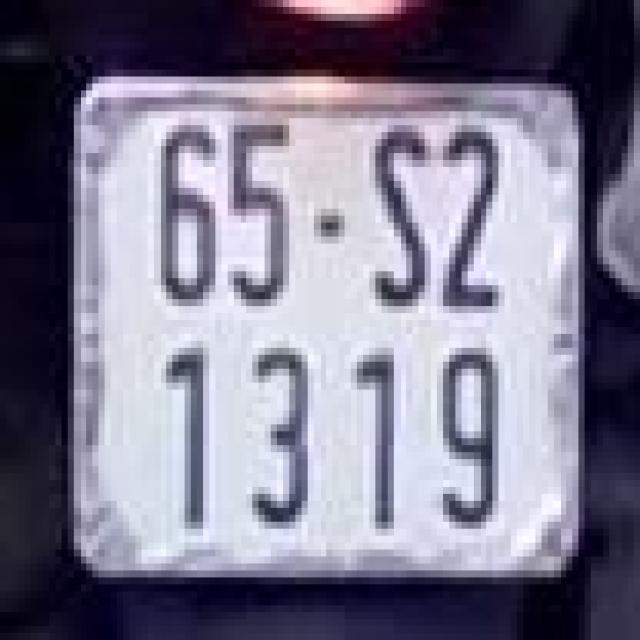1: (332, 327, 425, 550), (151, 331, 218, 546)
2: (440, 115, 508, 323)
3: (240, 331, 320, 532)
5: (225, 111, 292, 327)
6: (144, 111, 224, 313)
9: (430, 334, 504, 536)
S: (363, 111, 437, 320)
